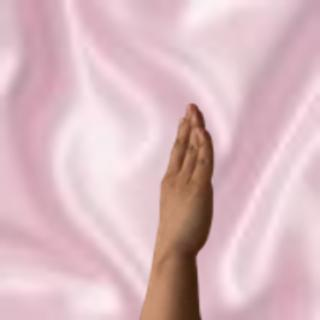RIGHT: (149, 96, 223, 265)
